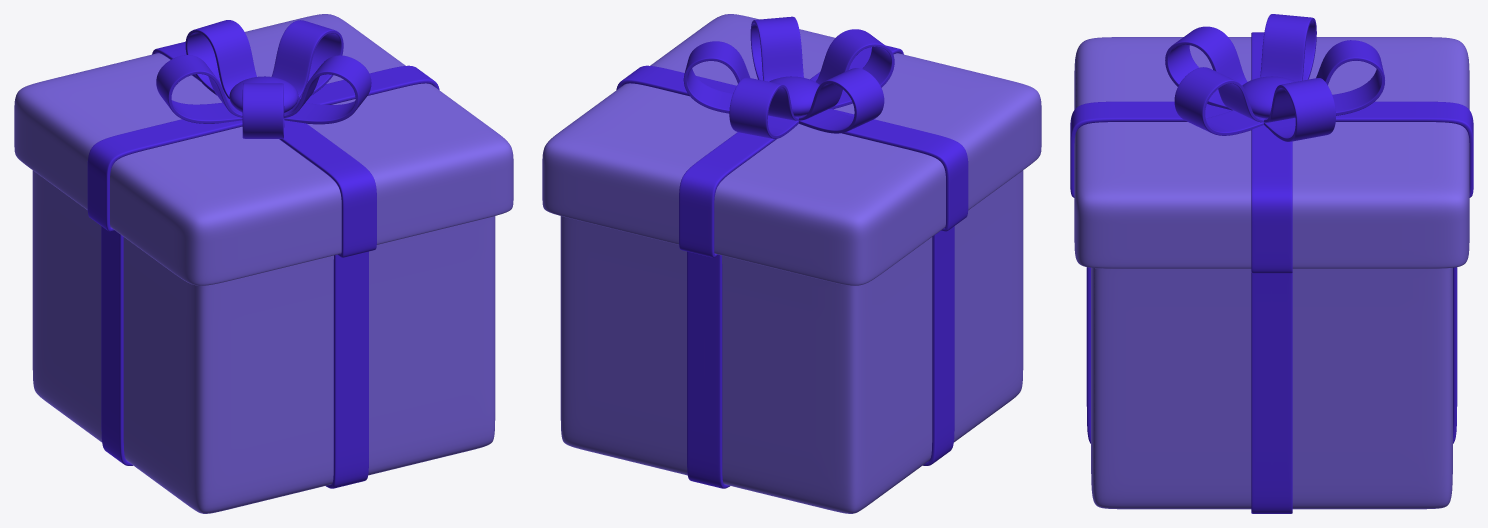
Rendered from gift.glb.
The picture shows the model from 3 angles, left to right: view 1: azimuth 30°, elevation 25°; view 2: azimuth 150°, elevation 25°; view 3: azimuth 270°, elevation 25°; orthographic projection. The views are drawn at different scales.
Visible parts, largest first — view 1: Cube.002; view 2: Cube.002; view 3: Cube.002.
Boxes of the visible parts, x1,y1,x2,y2 form: Cube.002: [14, 14, 513, 513]; Cube.002: [542, 14, 1041, 513]; Cube.002: [1070, 14, 1473, 513].
Size of the model in its own units: 1.75 by 1.87 by 1.75.
